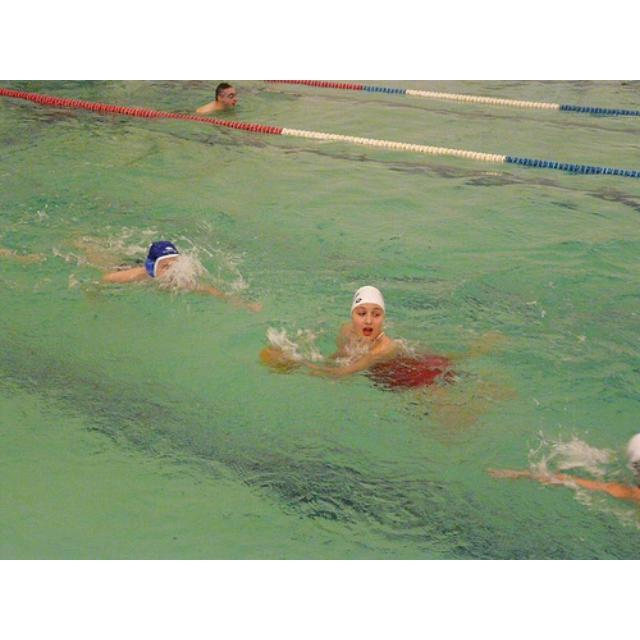human: (275, 282, 467, 399), (85, 237, 248, 307), (196, 84, 238, 112)
